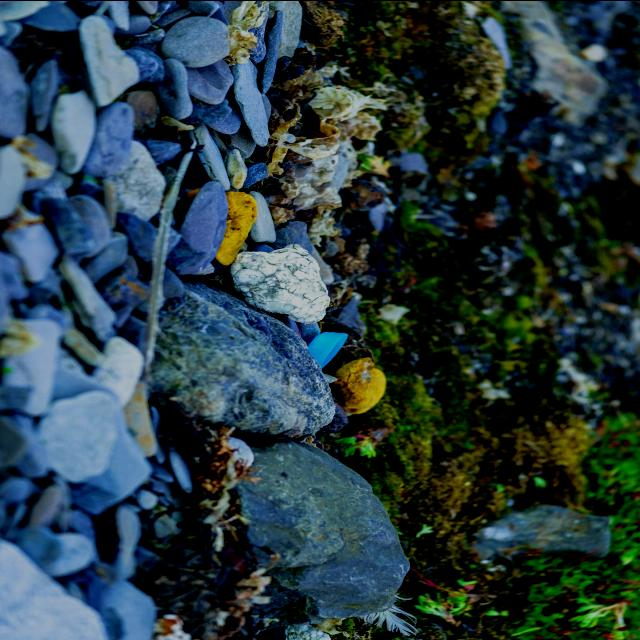Plastic bottle cap: (307, 331, 347, 368)
